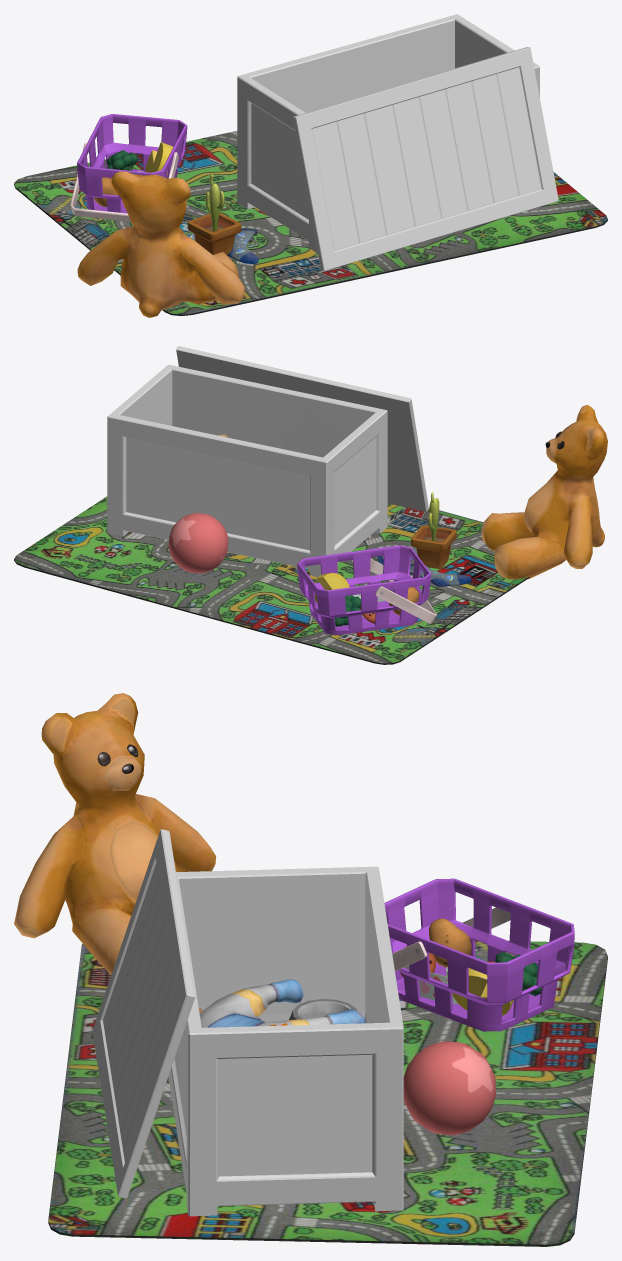
File: Toys.fbx
3 renders of one model, top to bottom at view 1: azimuth 30°, elevation 25°; view 2: azimuth 150°, elevation 25°; view 3: azimuth 270°, elevation 25°, orthographic. The views are drawn at different scales.
Visible parts, largest first — view 1: Box_Lid, Rug, Box_Base, Bear, Basket1, PottedPlant, Basket_Handle, Sock, Cheese, Broccoli; view 2: Box_Base, Rug, Bear, Box_Lid, Basket1, Ball1, PottedPlant, Basket_Handle, Sock1, Cheese; view 3: Box_Base, Rug, Bear, Box_Lid, Basket1, Ball1, SpaceDogRetop, Potato, Basket_Handle, DogBowl, Cheese.
Boxes of the visible parts, x1,y1,x2,y2 form: Box_Lid: [293, 47, 558, 270]; Rug: [14, 131, 607, 315]; Box_Base: [237, 14, 539, 253]; Bear: [77, 171, 244, 317]; Basket1: [77, 114, 187, 213]; PottedPlant: [187, 174, 241, 255]; Basket_Handle: [70, 143, 178, 221]; Sock: [227, 228, 258, 264]; Cheese: [145, 142, 173, 176]; Broccoli: [106, 150, 137, 170]; Box_Base: [107, 364, 387, 576]; Rug: [14, 496, 529, 664]; Bear: [481, 405, 607, 579]; Box_Lid: [176, 346, 428, 511]; Basket1: [297, 545, 431, 635]; Ball1: [168, 513, 228, 573]; PottedPlant: [411, 492, 456, 568]; Basket_Handle: [351, 558, 437, 623]; Sock1: [409, 563, 471, 586]; Cheese: [314, 573, 349, 603]; Box_Base: [168, 866, 403, 1216]; Rug: [48, 940, 607, 1246]; Bear: [14, 693, 216, 974]; Box_Lid: [92, 829, 195, 1198]; Basket1: [384, 878, 574, 1031]; Ball1: [403, 1041, 495, 1135]; SpaceDogRetop: [198, 979, 365, 1027]; Potato: [429, 918, 471, 967]; Basket_Handle: [392, 900, 513, 971]; DogBowl: [289, 999, 356, 1020]; Cheese: [452, 968, 513, 1015].
Size of the model in its own units: 7345 by 2194 by 5239.
